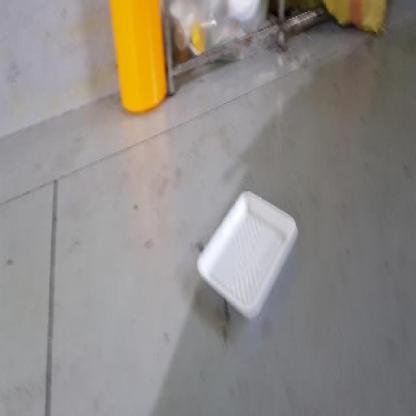Glass Cup: (196, 191, 299, 320), (197, 191, 298, 319)
